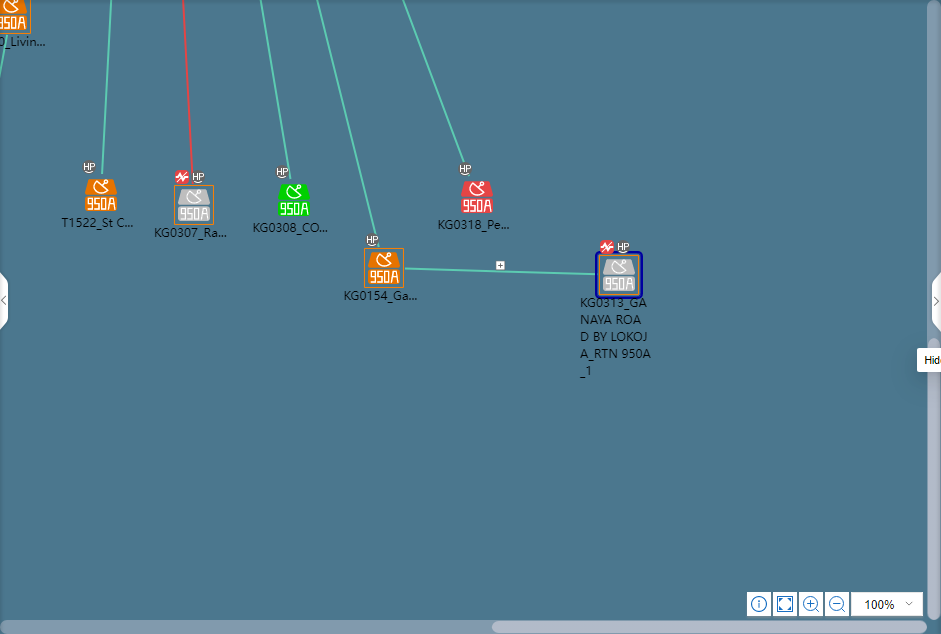Link_Blue: (315, 0, 381, 247), (401, 0, 471, 177), (259, 0, 293, 180), (100, 0, 112, 174), (405, 267, 594, 276), (0, 34, 9, 78)
Link_Red: (181, 0, 194, 174)
RTN_Gray: (176, 188, 211, 223), (600, 258, 635, 293)
RTN_Green: (278, 184, 309, 216)
RTN_Orange: (365, 252, 400, 285), (85, 179, 115, 211)
RTN_Red: (461, 182, 492, 213)
